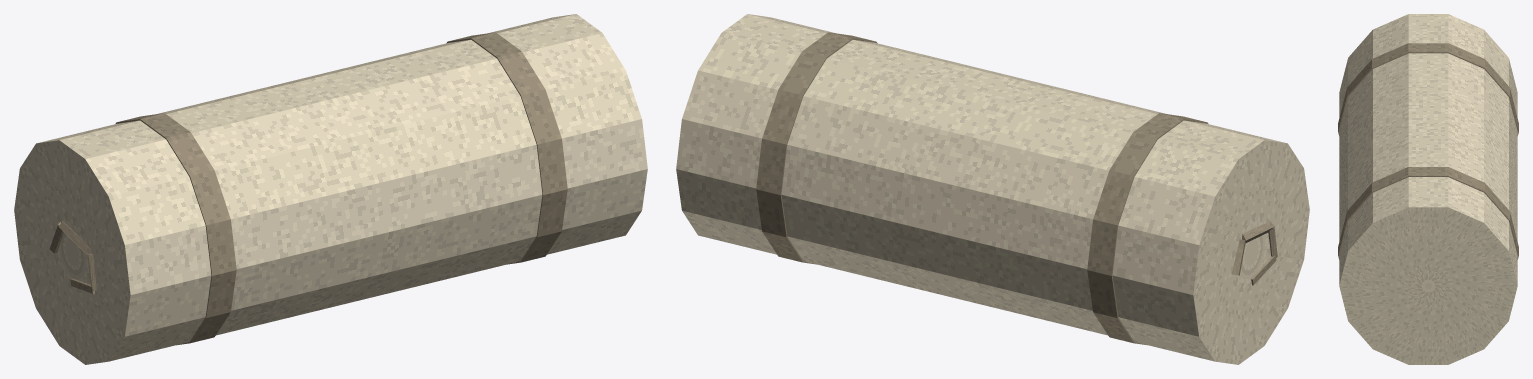
Rendered from down_pillow.glb.
3 renders of one model, left to right at view 1: azimuth 30°, elevation 25°; view 2: azimuth 150°, elevation 25°; view 3: azimuth 270°, elevation 25°, orthographic. The views are drawn at different scales.
Visible parts, largest first — view 1: block_rolled pillow, block_fabric tie 0.128, block_fabric tie -0.128; view 2: block_rolled pillow, block_fabric tie 0.128, block_fabric tie -0.128; view 3: block_rolled pillow, block_fabric tie -0.128, block_fabric tie 0.128.
Part boxes in pixels (left/top/right/bottom): block_rolled pillow: left=14, top=14, right=647, bottom=364; block_fabric tie 0.128: left=446, top=32, right=567, bottom=264; block_fabric tie -0.128: left=115, top=113, right=236, bottom=345; block_rolled pillow: left=676, top=14, right=1309, bottom=364; block_fabric tie 0.128: left=756, top=32, right=877, bottom=264; block_fabric tie -0.128: left=1087, top=113, right=1208, bottom=345; block_rolled pillow: left=1339, top=14, right=1517, bottom=364; block_fabric tie -0.128: left=1338, top=43, right=1518, bottom=135; block_fabric tie 0.128: left=1338, top=167, right=1518, bottom=259.
Size of the model in its own units: 0.4038 by 0.154 by 0.158.
Materials: 1 (1 with a texture image).
